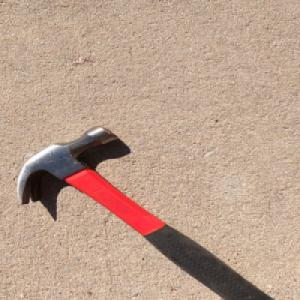Hammer: (12, 124, 278, 300)
